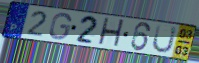2: (74, 15, 100, 46), (25, 10, 49, 38)
6: (130, 22, 152, 52)
G: (48, 12, 74, 41)
H: (96, 16, 126, 50)
U: (151, 23, 179, 54)
